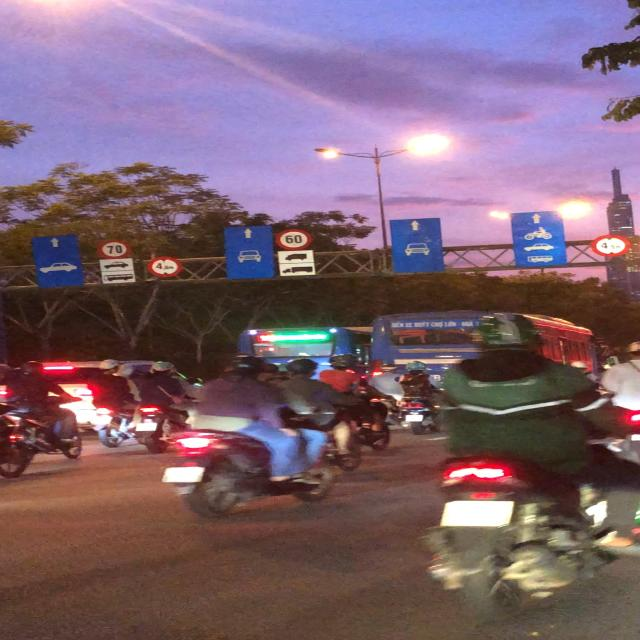Bien bao han che chieu cao: (586, 233, 633, 258), (142, 254, 187, 279)
Bien bao toc do toi da cho phep: (93, 237, 134, 260), (274, 228, 315, 250)
